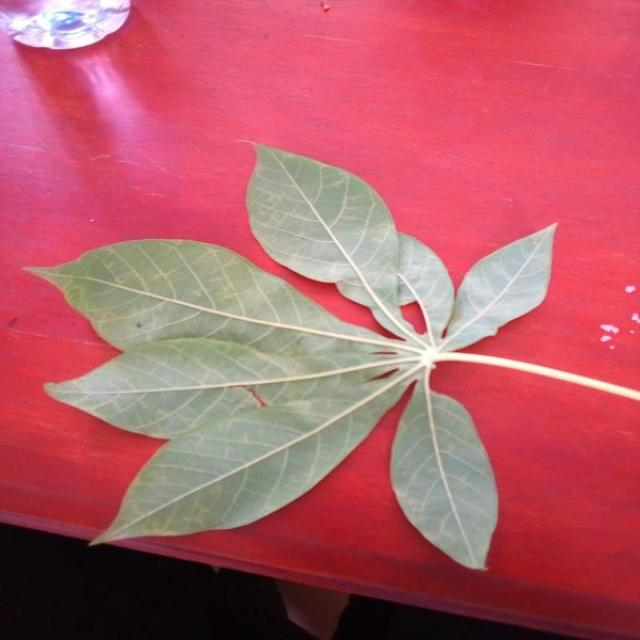cassava leaf: (22, 138, 559, 570), (389, 378, 498, 570)
